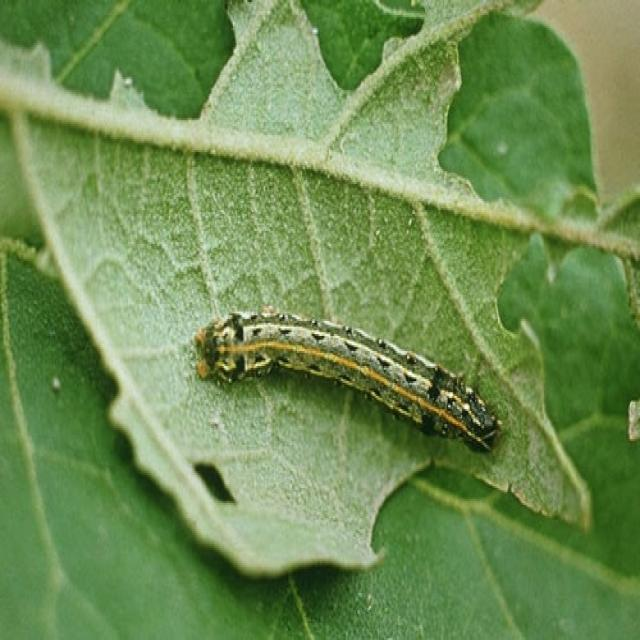armyworm: (192, 304, 502, 452)
